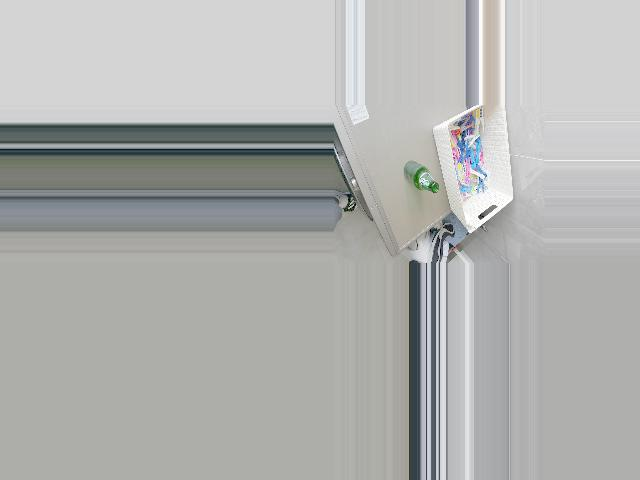beer: (403, 161, 438, 193)
